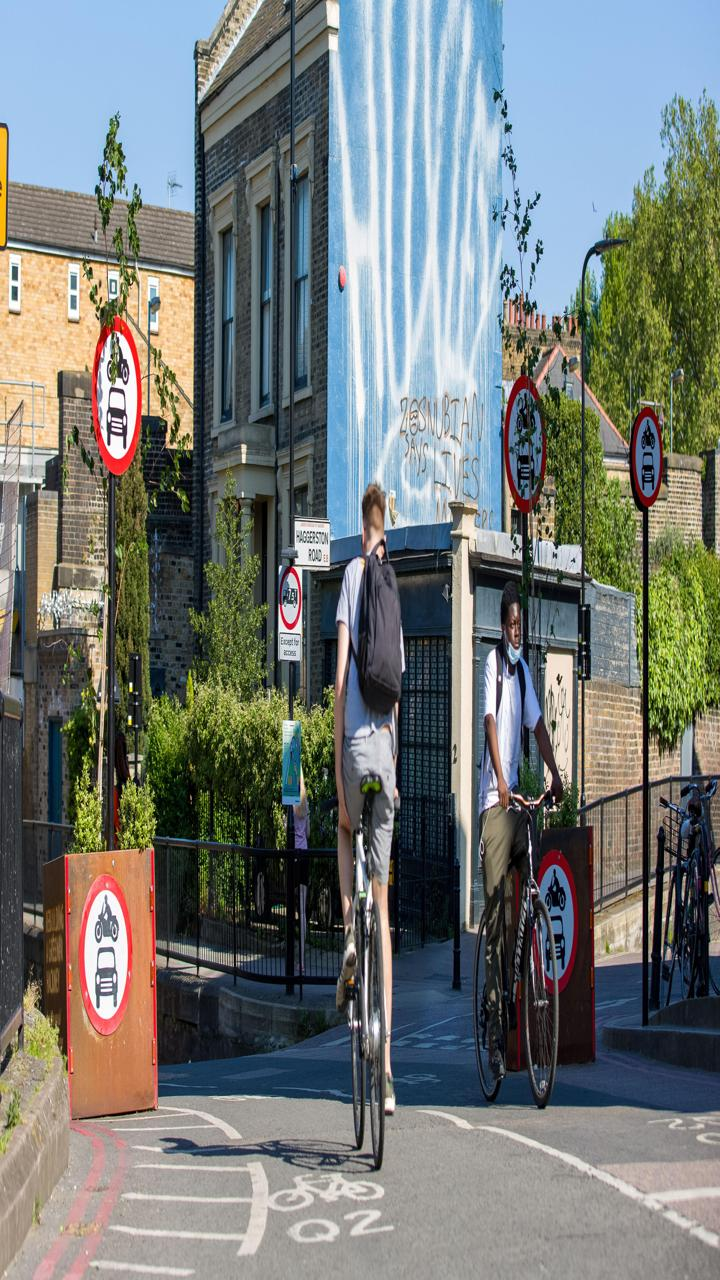Traffic sign: (71, 299, 164, 475), (71, 851, 164, 1027), (470, 359, 563, 535), (596, 373, 689, 549), (262, 547, 323, 654)
bicycle: (465, 791, 563, 1103), (319, 861, 416, 1165)
cyclist: (319, 471, 404, 1151), (461, 572, 552, 1160)
